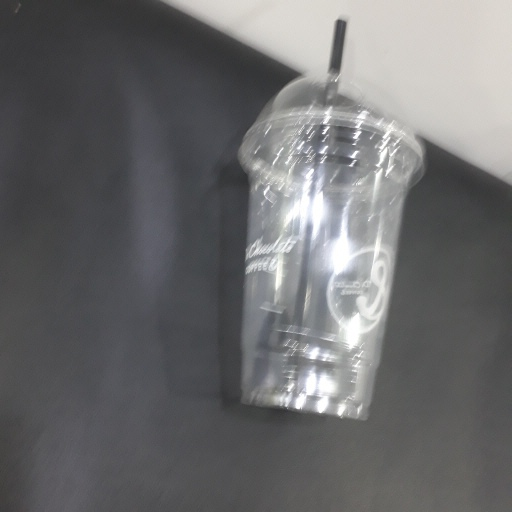Plastic_2: (236, 17, 431, 425)
